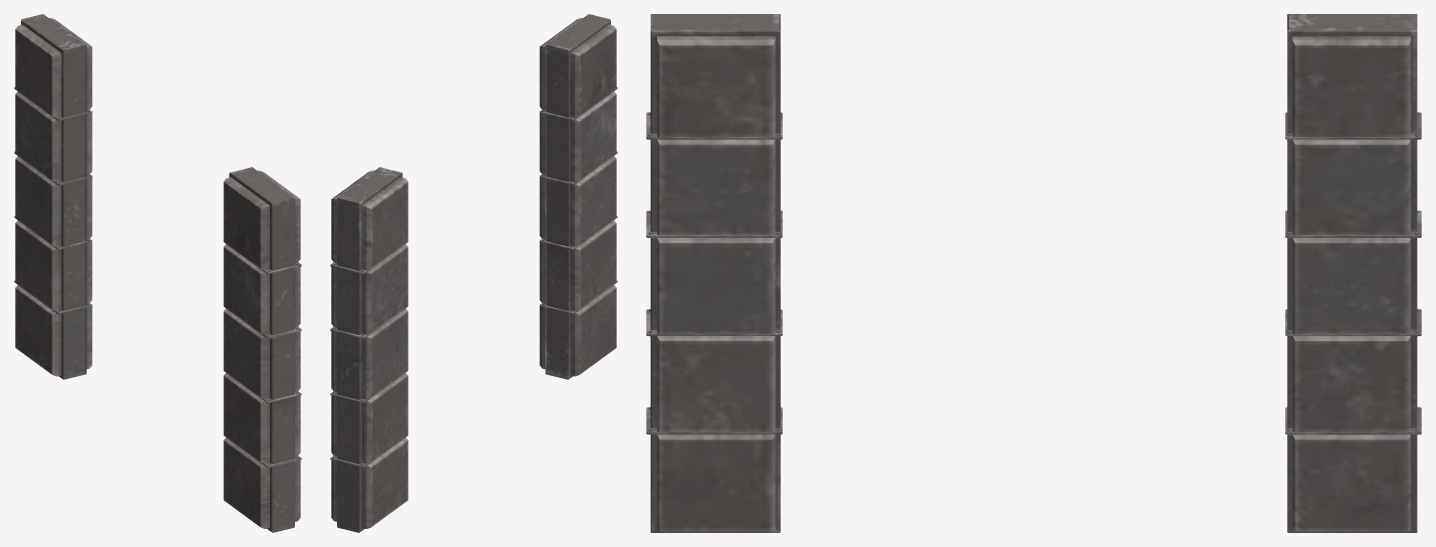
Rendered from SM_GateBase_Iron_c8d9b9.glb.
3 views of the same model, side by side, from view 1: azimuth 30°, elevation 25°; view 2: azimuth 150°, elevation 25°; view 3: azimuth 270°, elevation 25° (orthographic). The views are drawn at different scales.
Bounding box in the file's own units: 0.8273 × 6.54 × 9.13.
Materials: 1 (1 with a texture image).
